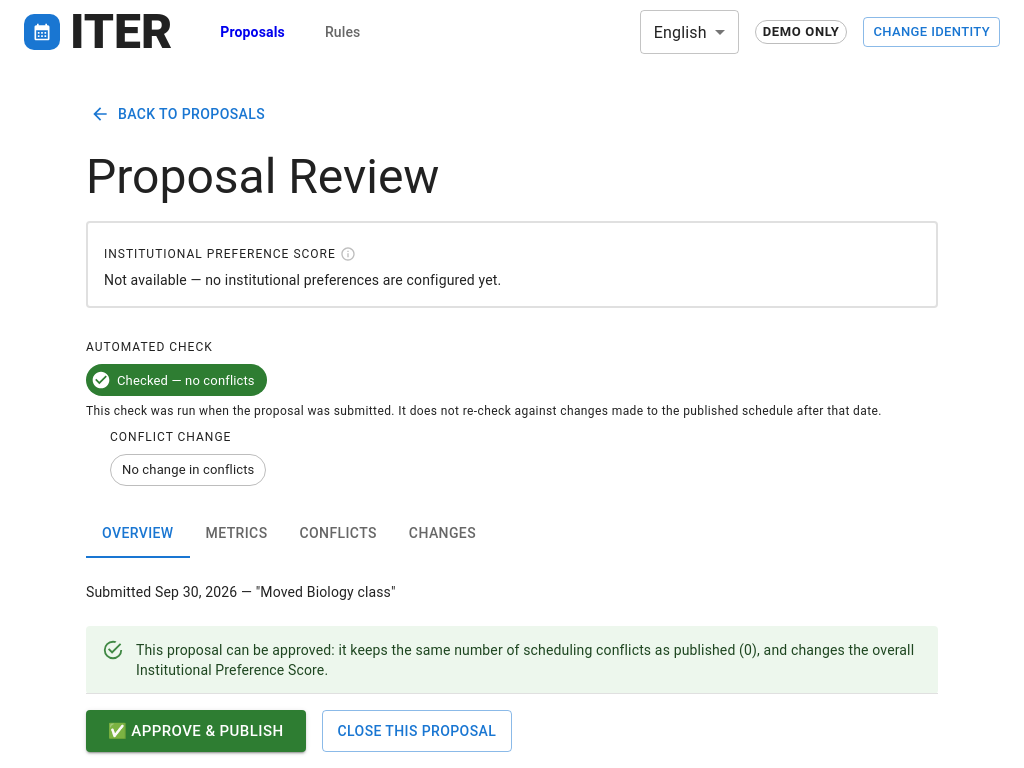
Test: ProposalReviewPage › opens approve confirmation dialog on Approve click
This screenshot has width=1024, height=768.
Click the button "✅ Approve & Publish": coordinates (196, 731) top-left (86, 710), bottom-right (306, 752)
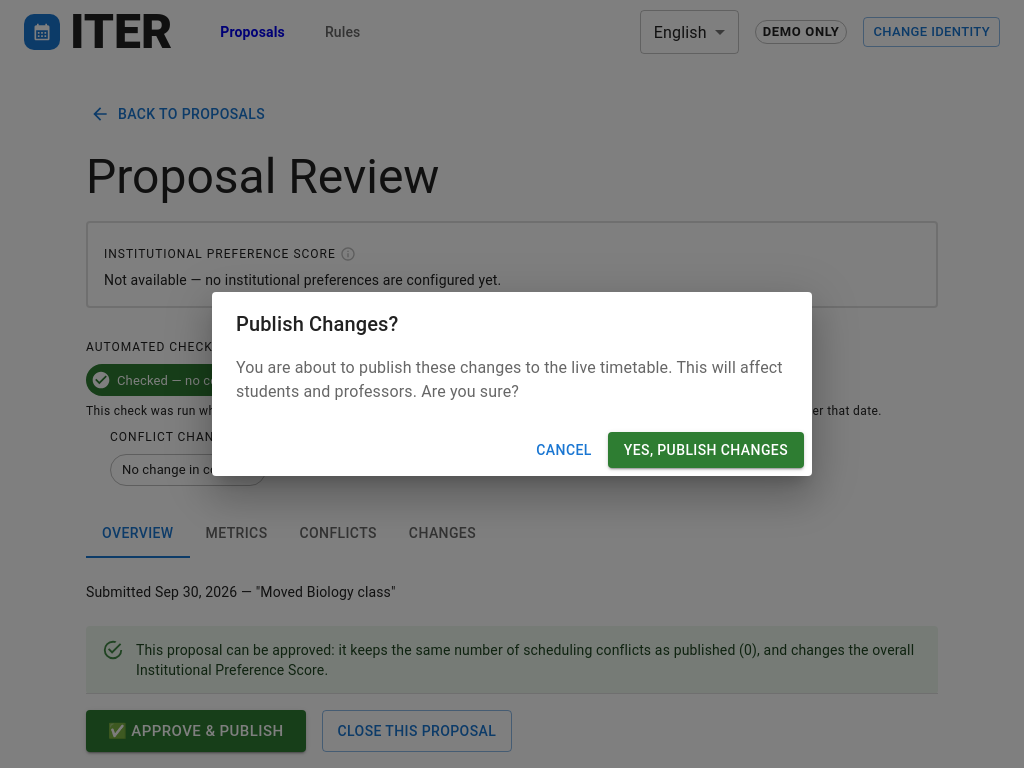
Expected: the heading "Publish Changes?" is shown, top-left (236, 312), bottom-right (398, 336)
Expected: the text "live timetable" is shown, top-left (236, 358), bottom-right (783, 401)
